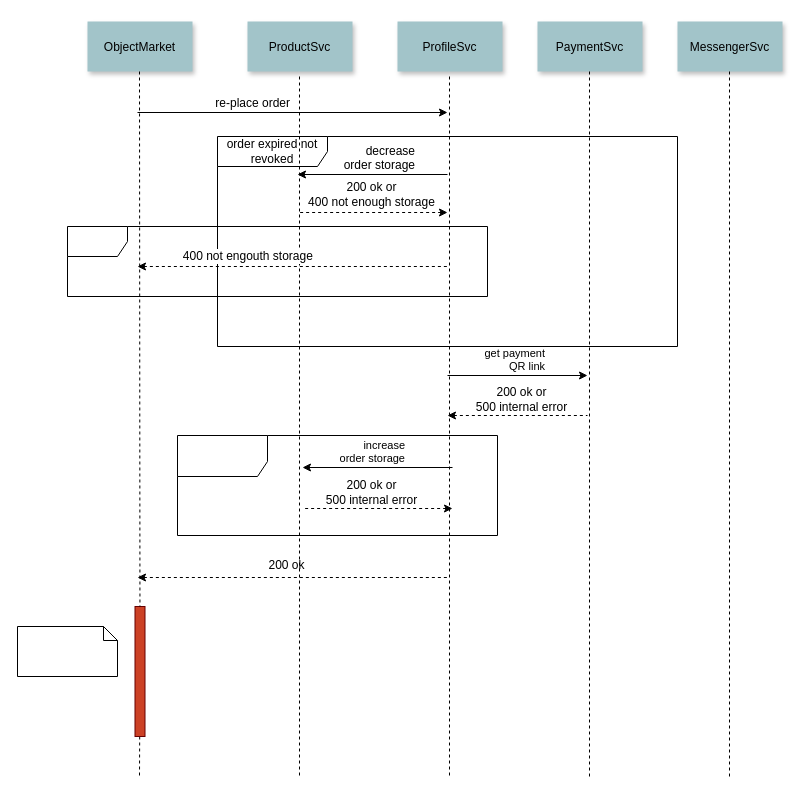
Some shapes in this 806 by 795 pixel diagram are drawn without their labels. The shapes that lost their labels are listed below. From the top down, each one's centre as x and y in pixels, then its label:
At (277,261): "decrease failed".
At (337,485): "if payment QR link failed".
At (67,651): "Remaining steps same as new order flow".
